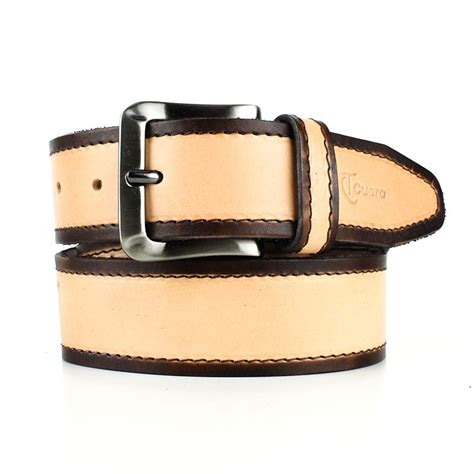cuero: (47, 117, 446, 377)
